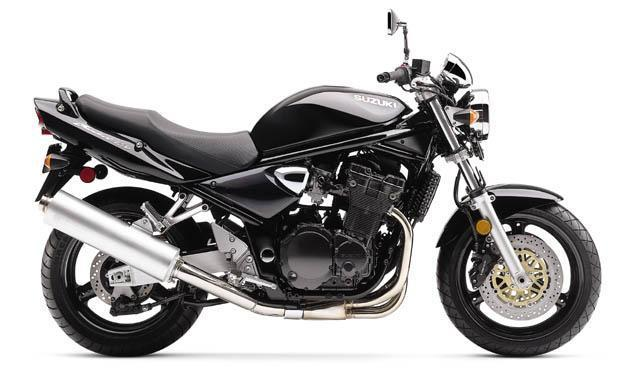motorcycle: (6, 8, 607, 370)
